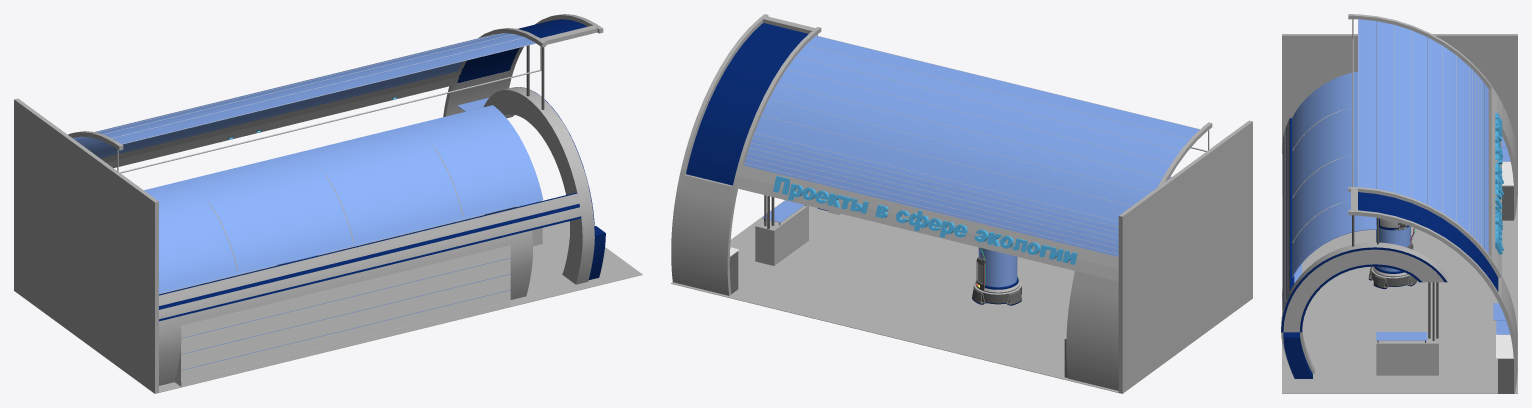
File: эко.glb
3 renders of one model, left to right at view 1: azimuth 30°, elevation 25°; view 2: azimuth 150°, elevation 25°; view 3: azimuth 270°, elevation 25°, orthographic. The views are drawn at different scales.
Parts seen in each view (by area): view 1: Circle15, Box02, Box19, Circle08, Circle22, Circle02, Circle05, Box01, Circle20, Circle21, Circle19, Box16 (+6 smaller); view 2: Circle08, Box01, Box02, Circle05, Circle07, Circle10, Circle11, Circle09, Text001, Box23, Circle06, Object_76 (+2 smaller); view 3: Box01, Circle08, Circle15, Box02, Circle02, Circle05, Circle07, Box23, Circle09, Circle06, Circle19, Text001 (+16 smaller).
Boxes of the visible parts, bbox=[...] form: Circle15: bbox=[144, 105, 543, 293]; Box02: bbox=[14, 98, 158, 393]; Box19: bbox=[181, 245, 510, 380]; Circle08: bbox=[72, 33, 535, 158]; Circle22: bbox=[159, 230, 532, 385]; Circle02: bbox=[483, 87, 594, 284]; Circle05: bbox=[100, 28, 546, 168]; Box01: bbox=[14, 200, 642, 393]; Circle20: bbox=[159, 193, 579, 305]; Circle21: bbox=[159, 207, 581, 319]; Circle19: bbox=[159, 193, 581, 321]; Box16: bbox=[175, 301, 510, 386]; Circle08: bbox=[744, 36, 1199, 256]; Box01: bbox=[671, 200, 1252, 393]; Box02: bbox=[1118, 120, 1252, 393]; Circle05: bbox=[724, 27, 1118, 295]; Circle07: bbox=[686, 23, 808, 185]; Circle10: bbox=[675, 174, 732, 294]; Circle11: bbox=[1066, 271, 1118, 390]; Circle09: bbox=[744, 35, 1199, 254]; Text001: bbox=[773, 175, 1077, 264]; Box23: bbox=[755, 205, 808, 265]; Circle06: bbox=[671, 14, 768, 282]; Object_76: bbox=[978, 247, 1017, 287]; Box01: bbox=[1282, 196, 1517, 393]; Circle08: bbox=[1358, 19, 1488, 253]; Circle15: bbox=[1292, 71, 1376, 277]; Box02: bbox=[1282, 34, 1517, 195]; Circle02: bbox=[1281, 242, 1447, 373]; Circle05: bbox=[1348, 87, 1517, 328]; Circle07: bbox=[1358, 192, 1498, 291]; Box23: bbox=[1376, 335, 1438, 375]; Circle09: bbox=[1358, 19, 1484, 248]; Circle06: bbox=[1348, 210, 1517, 393]; Circle19: bbox=[1283, 118, 1294, 309]; Text001: bbox=[1495, 113, 1503, 254].
Size of the model in its own units: 16.87 by 7.23 by 8.47.
